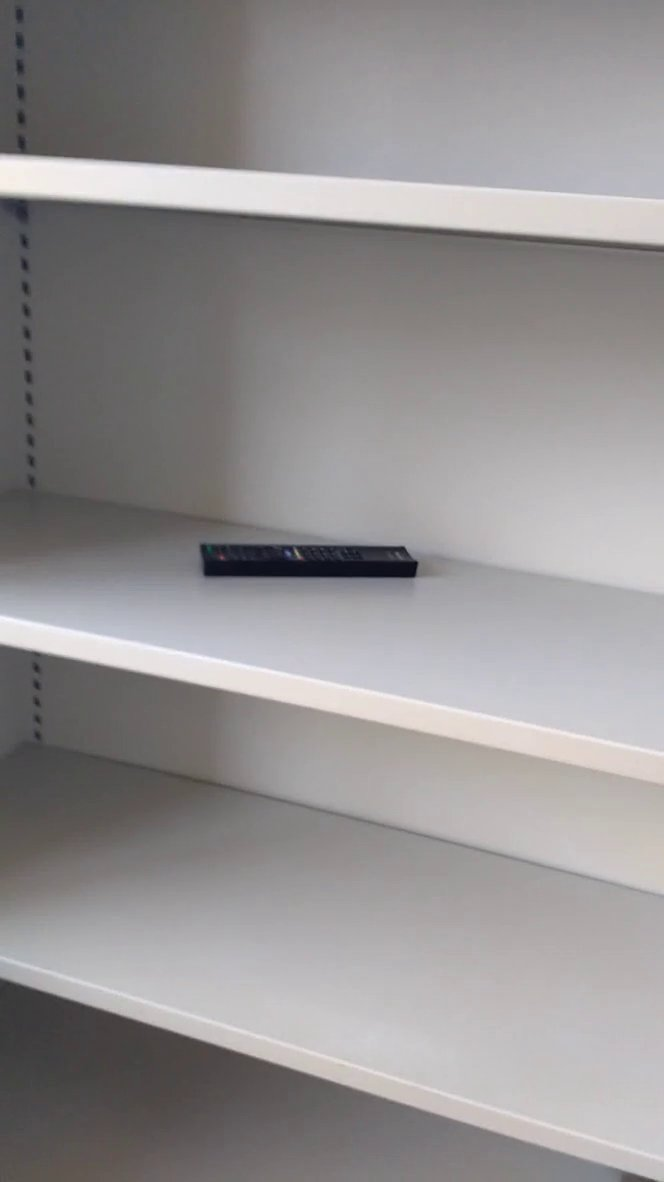remote: (184, 530, 438, 600)
